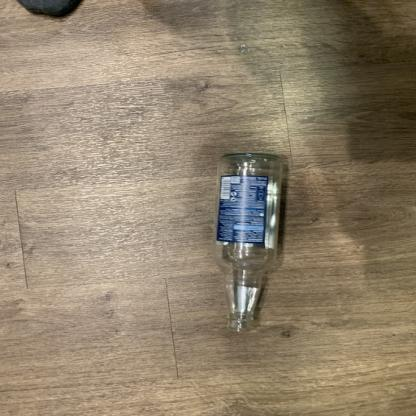trash: (214, 152, 286, 340)
